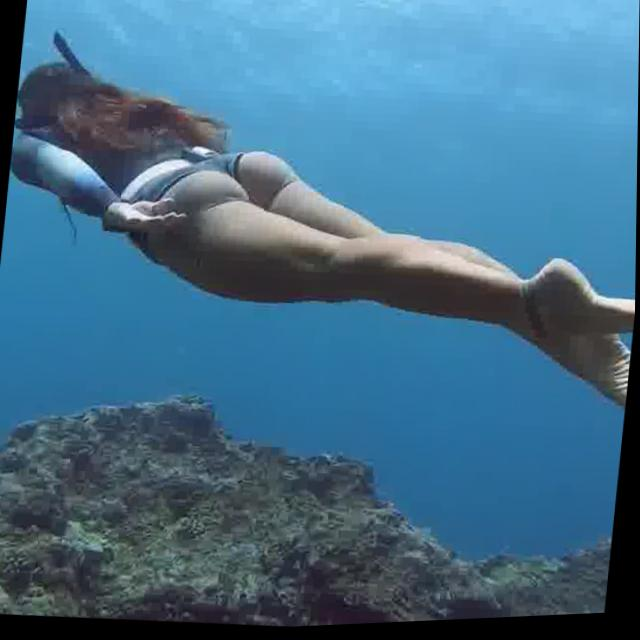human: (0, 18, 640, 479)
